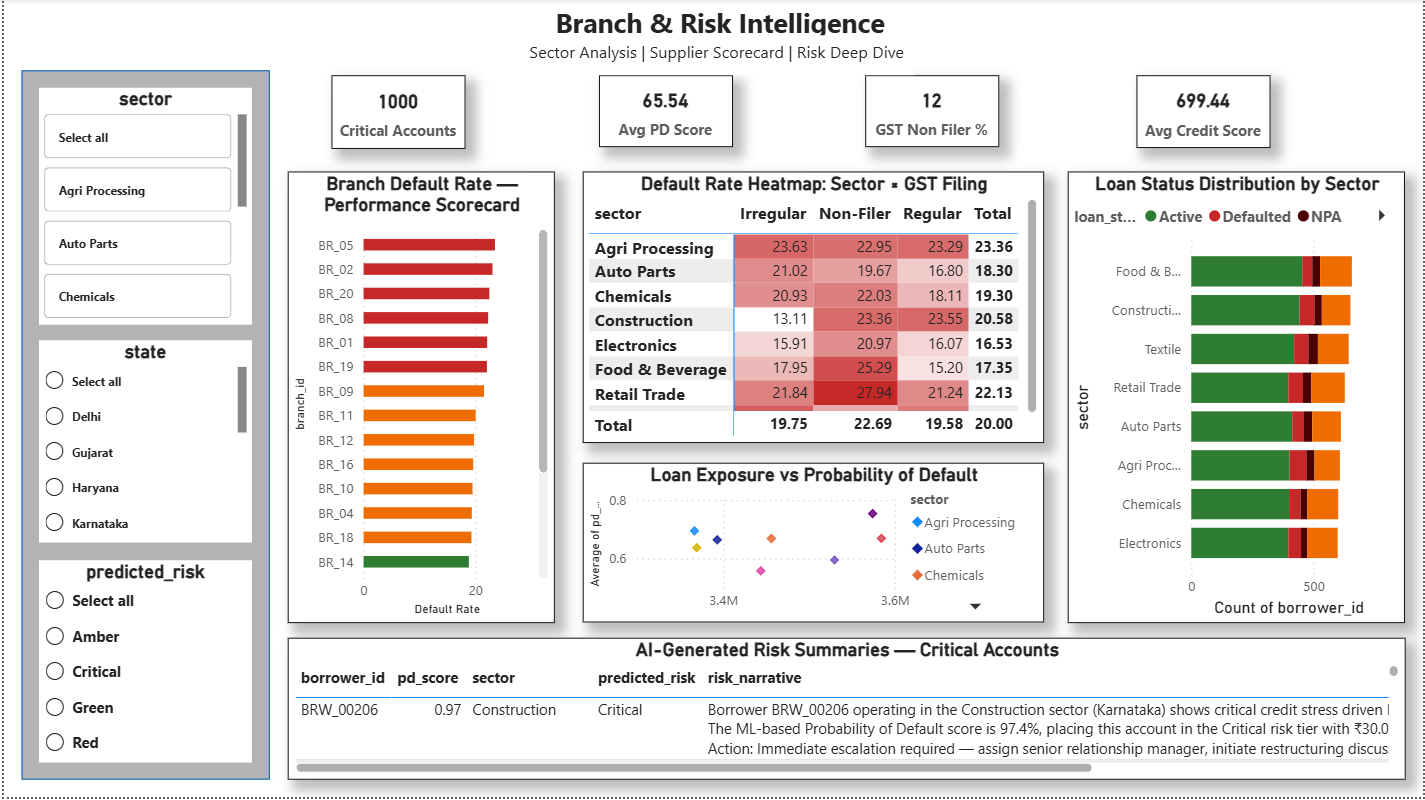

The dashboard page shown, as its layout file describes it:
{"tool":"powerbi","page":{"name":"Branch & Risk Intelligence","canvas":[1280,720],"ordinal":1},"visuals":[{"type":"shape","box":[16.1,64.5,224,639.7],"z":0,"group":"g1"},{"type":"card","fields":{"Values":["msme_loans_scored.Critical Accounts"]},"box":[295.3,68.8,120.6,66.5],"z":0},{"type":"card","fields":{"Values":["msme_loans_scored.Avg PD Score"]},"box":[536.2,68.3,120.4,64.5],"z":1000},{"type":"advancedSlicerVisual","fields":{"Values":["msme_loans_scored.sector"]},"box":[32.1,79.7,192,213.2],"z":1000,"group":"g1"},{"type":"card","fields":{"Values":["msme_loans_scored.GST Non Filer %"]},"box":[777,68.3,120.4,64.5],"z":2000},{"type":"listSlicer","fields":{"Values":["msme_loans_scored.state"]},"box":[32.1,308.2,192,182.8],"z":2000,"group":"g1"},{"type":"textbox","box":[486,0,319.8,41.9],"z":3000},{"type":"listSlicer","fields":{"Values":["msme_loans_scored.predicted_risk"]},"box":[32.1,506.2,192,182.8],"z":3000,"group":"g1"},{"type":"textbox","box":[469.2,32.3,351.3,36],"z":4000},{"type":"card","fields":{"Values":["msme_loans_scored.Avg Credit Score"]},"box":[1021.2,68.8,120.6,65.4],"z":5000},{"type":"clusteredBarChart","title":"Branch Default Rate — Performance Scorecard","fields":{"Category":["msme_loans_scored.branch_id"],"Y":["msme_loans_scored.Default Rate"]},"box":[255.7,155.2,240.8,407.1],"z":6000},{"type":"scatterChart","title":"Loan Exposure vs Probability of Default","fields":{"X":["Avg(msme_loans_scored.loan_amount)"],"Y":["Avg(msme_loans_scored.pd_score)"],"Series":["msme_loans_scored.sector"],"Size":["Avg(msme_loans_scored.bounce_count_6m)"]},"box":[521.3,418.3,415.8,144],"z":7000},{"type":"barChart","title":"Loan Status Distribution by Sector","fields":{"Category":["msme_loans_scored.sector"],"Y":["CountNonNull(msme_loans_scored.borrower_id)"],"Series":["msme_loans_scored.loan_status"]},"box":[959.5,155.2,304.1,407.1],"z":8000},{"type":"pivotTable","title":"Default Rate Heatmap: Sector × GST Filing","fields":{"Rows":["msme_loans_scored.sector"],"Columns":["msme_loans_scored.gst_filing"],"Values":["msme_loans_scored.Default Rate"]},"box":[521.3,155.2,415.8,244.5],"z":9000},{"type":"tableEx","title":"AI-Generated Risk Summaries — Critical Accounts","fields":{"Values":["critical_borrowers_with_narratives.borrower_id","critical_borrowers_with_narratives.pd_score","critical_borrowers_with_narratives.sector","critical_borrowers_with_narratives.predicted_risk","critical_borrowers_with_narratives.risk_narrative"]},"box":[255.7,576,1007.9,127.9],"z":10000},{"type":"group","id":"g1","title":"Group 1","box":[16.1,64.5,223.4,639.3],"z":11000}]}

Visuals, with their boxes in screenshot pixels (x1, y1, x2, y2), scaled from the page's 1280x720 canvas onto the 1425x800 screenshot:
shape: crop(18, 72, 267, 782)
card - msme_loans_scored.Critical Accounts: crop(329, 76, 463, 150)
card - msme_loans_scored.Avg PD Score: crop(597, 76, 731, 148)
advancedSlicerVisual - msme_loans_scored.sector: crop(36, 89, 249, 325)
card - msme_loans_scored.GST Non Filer %: crop(865, 76, 999, 148)
listSlicer - msme_loans_scored.state: crop(36, 342, 249, 546)
textbox: crop(541, 0, 897, 47)
listSlicer - msme_loans_scored.predicted_risk: crop(36, 562, 249, 766)
textbox: crop(522, 36, 913, 76)
card - msme_loans_scored.Avg Credit Score: crop(1137, 76, 1271, 149)
"Branch Default Rate — Performance Scorecard" clusteredBarChart: crop(285, 172, 553, 625)
"Loan Exposure vs Probability of Default" scatterChart: crop(580, 465, 1043, 625)
"Loan Status Distribution by Sector" barChart: crop(1068, 172, 1407, 625)
"Default Rate Heatmap: Sector × GST Filing" pivotTable: crop(580, 172, 1043, 444)
"AI-Generated Risk Summaries — Critical Accounts" tableEx: crop(285, 640, 1407, 782)
"Group 1" group: crop(18, 72, 267, 782)
